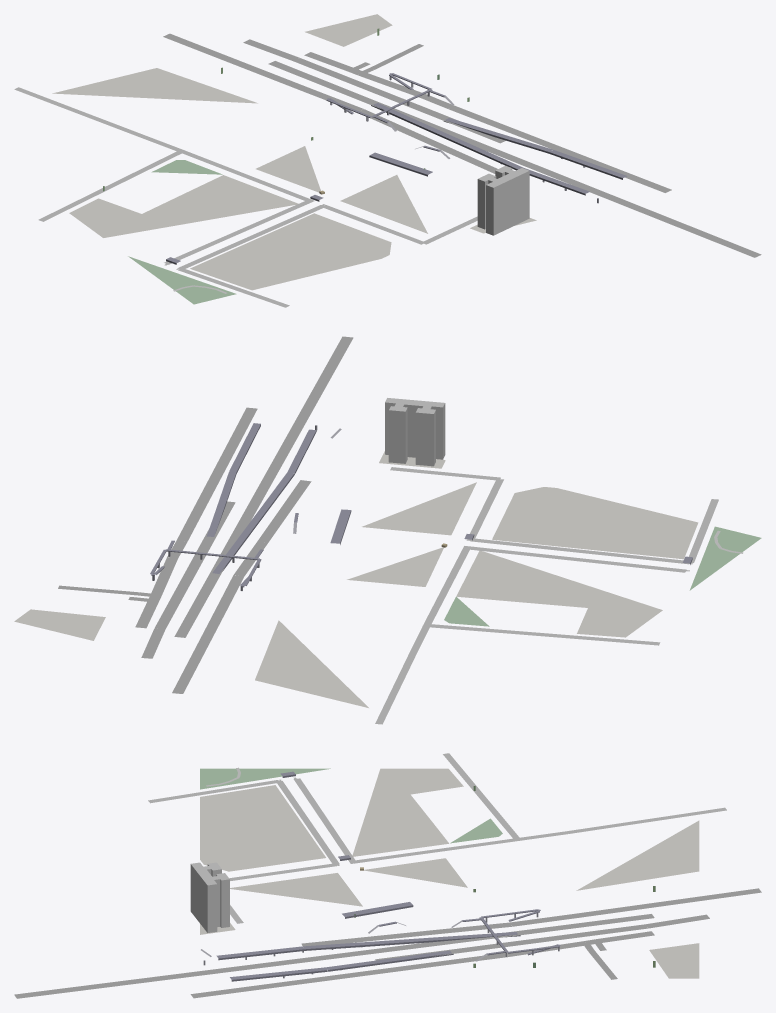
3 views of the same model, one above another, from view 1: azimuth 30°, elevation 25°; view 2: azimuth 150°, elevation 25°; view 3: azimuth 270°, elevation 25° (orthographic). The views are drawn at different scales.
Bounding box in the file's own units: 584 × 54.13 × 749.
